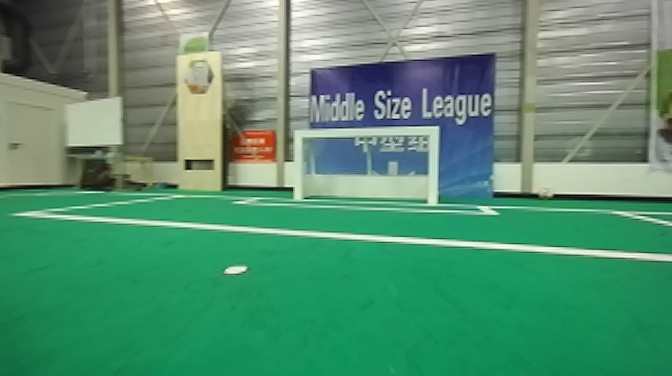goalpost: (421, 123, 442, 208), (289, 125, 310, 205)
